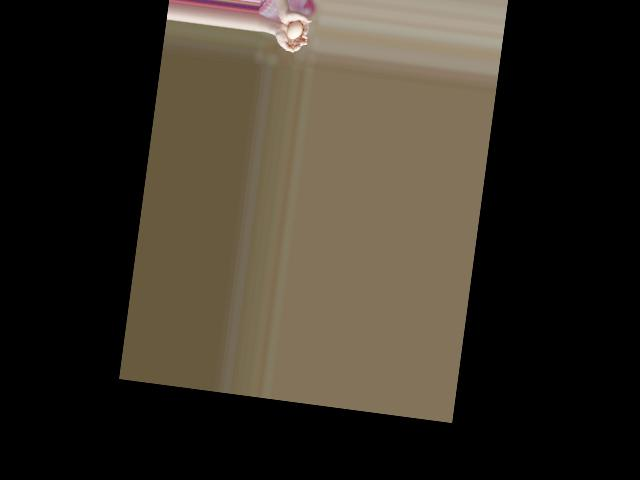egg: (286, 19, 304, 40)
